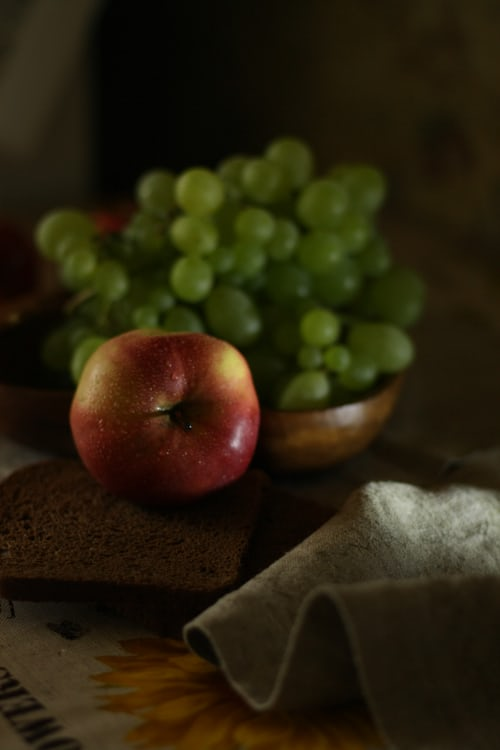apple: (71, 328, 262, 507)
